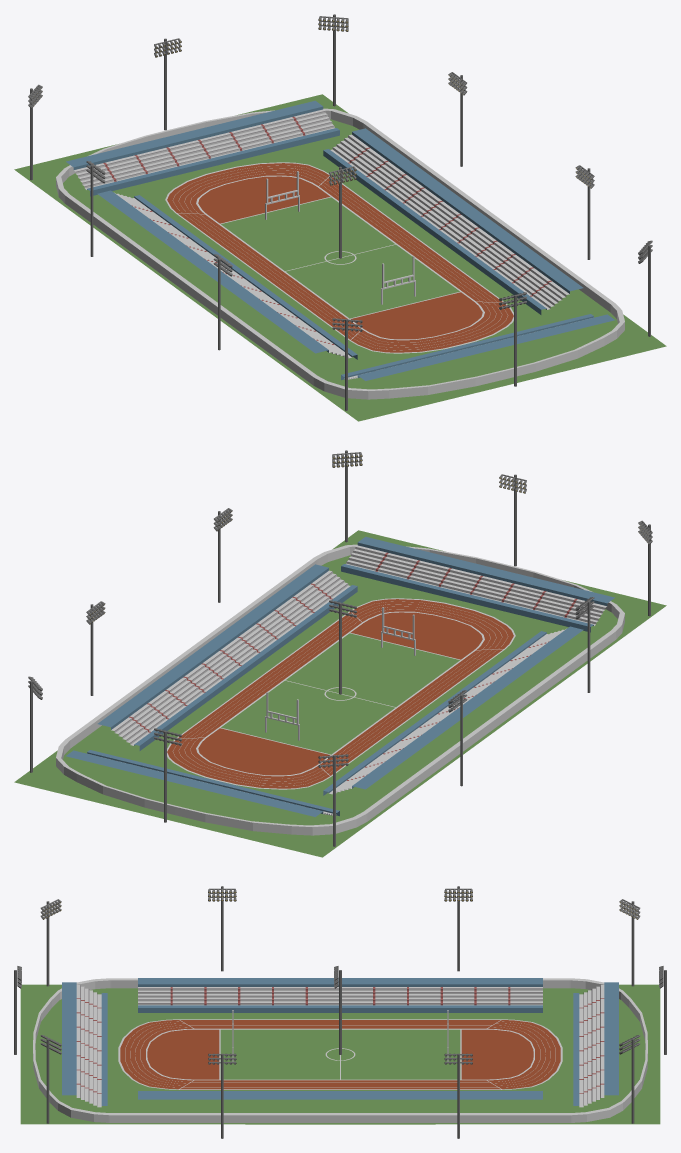
Rendered from Track and field Track.fbx.
The picture shows the model from 3 angles, top to bottom: view 1: azimuth 30°, elevation 25°; view 2: azimuth 150°, elevation 25°; view 3: azimuth 270°, elevation 25°; orthographic projection. The views are drawn at different scales.
Visible parts, largest first — view 1: Plane, Cube, Cube.001, Plane.001, Cylinder.003, Cylinder.002, Cylinder, Cube.002, Cylinder.001; view 2: Plane, Cube, Cube.001, Plane.001, Cylinder.003, Cylinder.002, Cylinder, Cube.002; view 3: Plane, Cube, Cube.001, Plane.001, Cylinder.002, Cylinder.003, Cylinder.
Boxes of the visible parts, x1=… form: Plane: x1=14, y1=94, x2=666, y2=421; Cube: x1=97, y1=128, x2=583, y2=359; Cube.001: x1=66, y1=100, x2=614, y2=380; Plane.001: x1=56, y1=108, x2=624, y2=399; Cylinder.003: x1=86, y1=72, x2=594, y2=350; Cylinder.002: x1=28, y1=14, x2=652, y2=410; Cylinder: x1=154, y1=38, x2=526, y2=386; Cube.002: x1=265, y1=171, x2=415, y2=304; Cylinder.001: x1=329, y1=166, x2=356, y2=258; Plane: x1=14, y1=530, x2=666, y2=857; Cube: x1=97, y1=564, x2=583, y2=795; Cube.001: x1=66, y1=536, x2=614, y2=816; Plane.001: x1=56, y1=544, x2=624, y2=835; Cylinder.003: x1=86, y1=508, x2=594, y2=786; Cylinder.002: x1=28, y1=450, x2=652, y2=846; Cylinder: x1=154, y1=474, x2=526, y2=822; Cube.002: x1=265, y1=607, x2=415, y2=740; Plane: x1=20, y1=984, x2=660, y2=1124; Cube: x1=138, y1=978, x2=542, y2=1099; Cube.001: x1=62, y1=982, x2=618, y2=1107; Plane.001: x1=33, y1=978, x2=647, y2=1122; Cylinder.002: x1=40, y1=899, x2=640, y2=1123; Cylinder.003: x1=208, y1=886, x2=472, y2=1138; Cylinder: x1=14, y1=966, x2=666, y2=1054.
Size of the model in its own units: 2702 by 629 by 4420.
